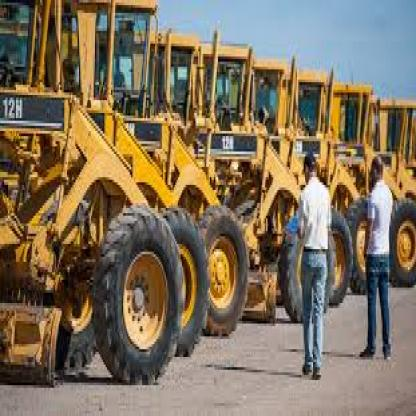person: (286, 136, 336, 388), (354, 141, 398, 375)
